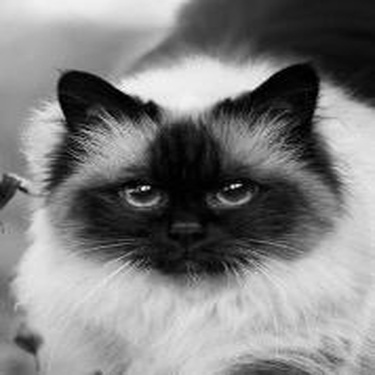cat: (8, 4, 370, 371)
